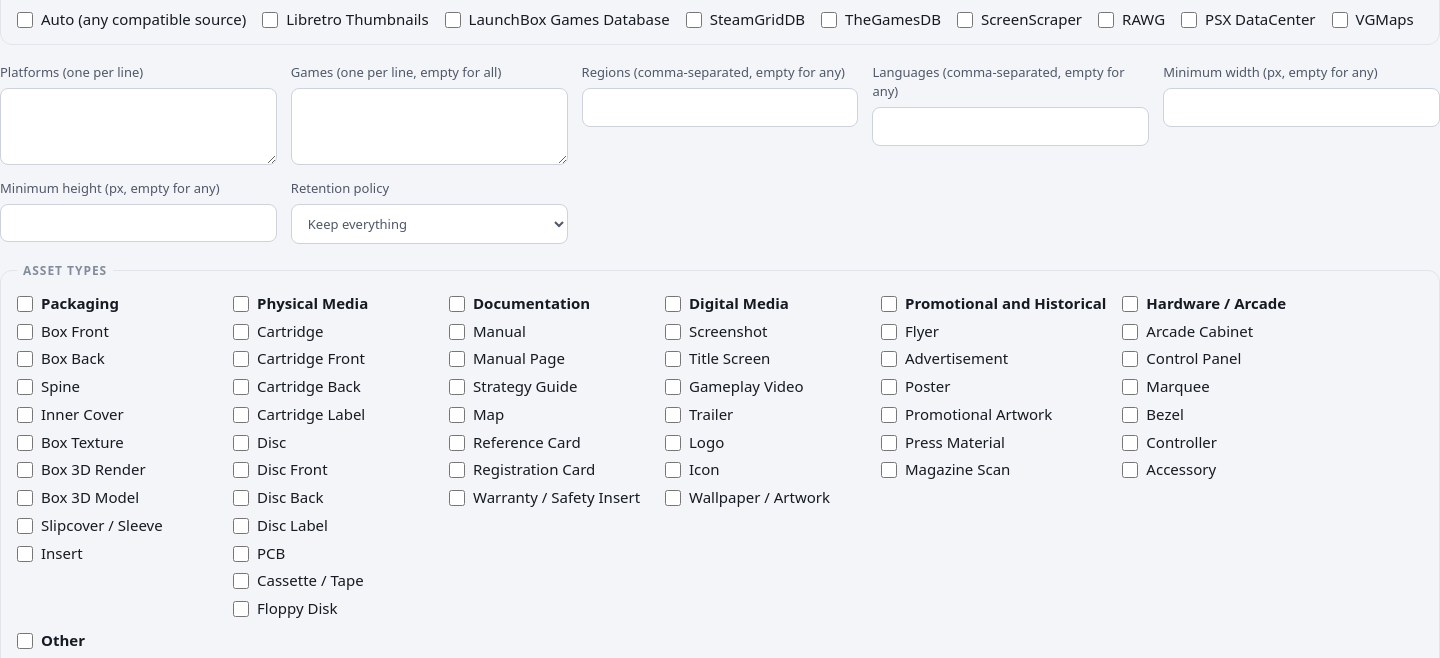
Test case: AcquireView › refuses a pixel size that is not a whole number of pixels
In the field labelled "Minimum width (px, empty for any)": (1302, 108) x1=1163 y1=88 x2=1439 y2=127, type "12.5"
(page scrolled)
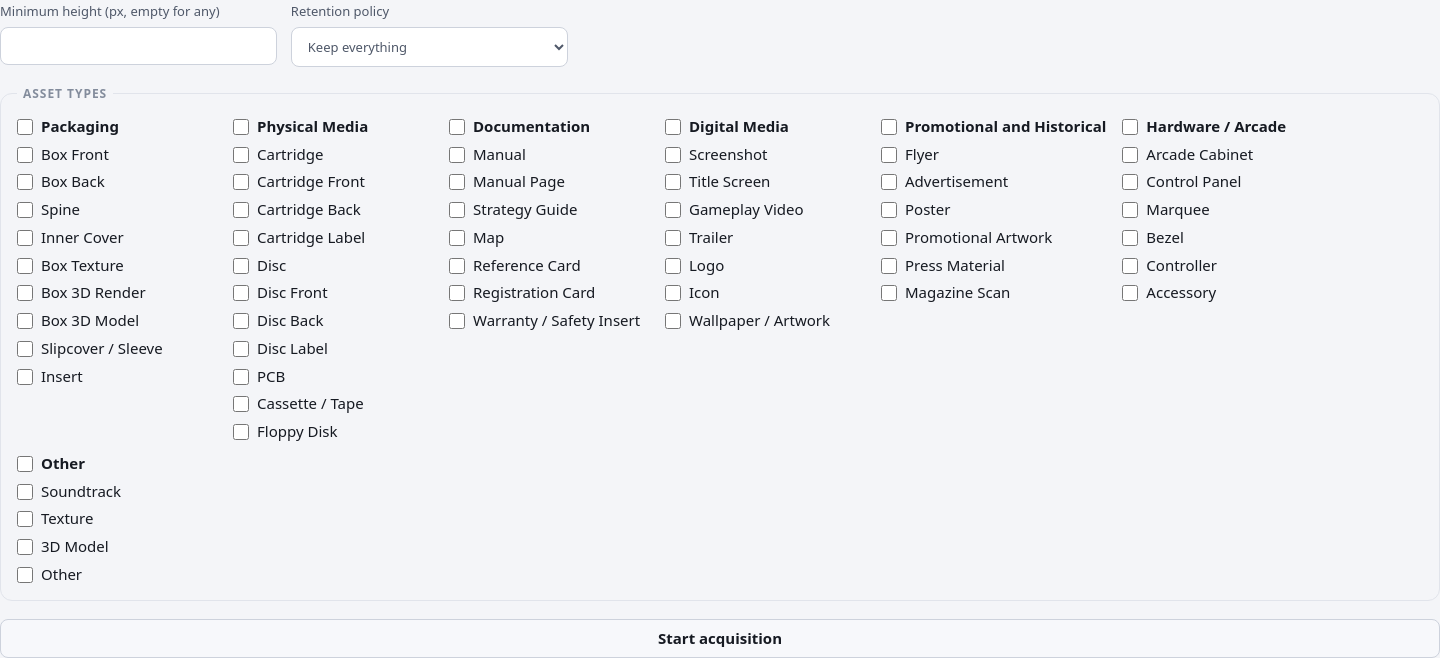
Click the button "Start acquisition": (720, 639) x1=0 y1=619 x2=1439 y2=657
(page scrolled)
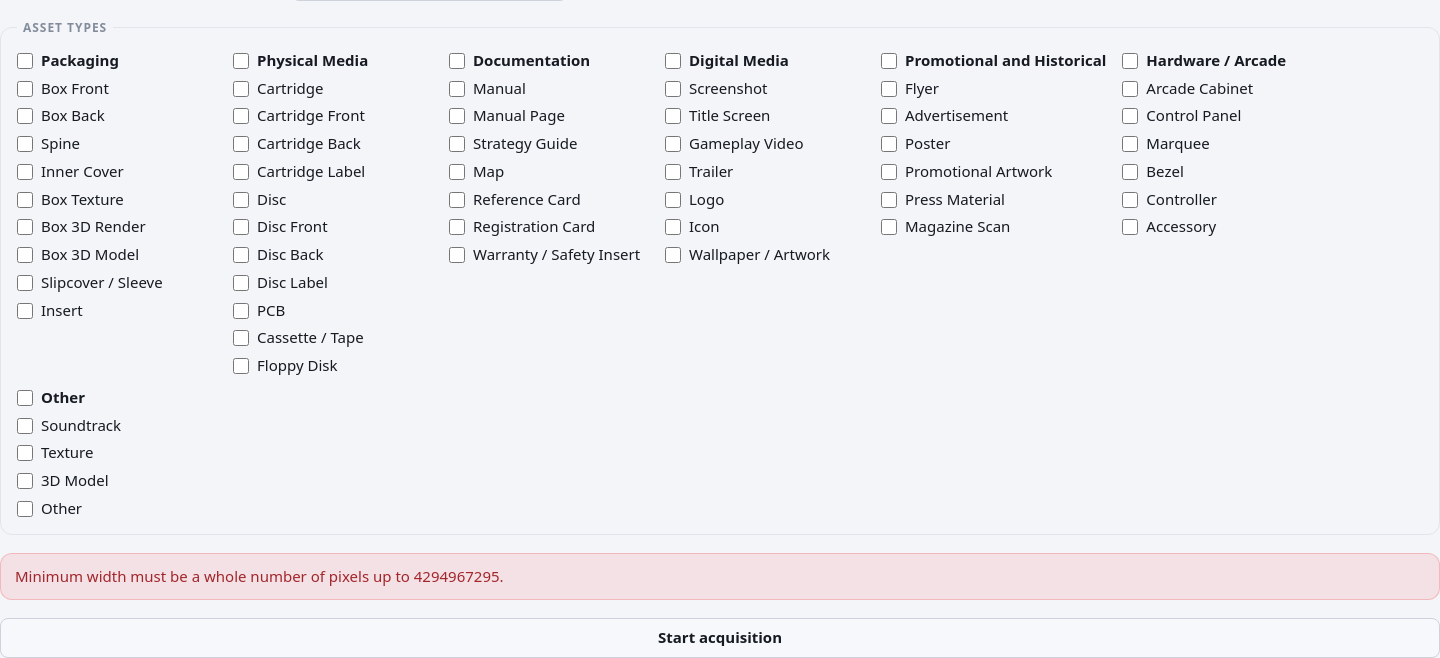
Expected: the message shows "Minimum width must be a whole number of pixels", x1=15 y1=566 x2=504 y2=586
